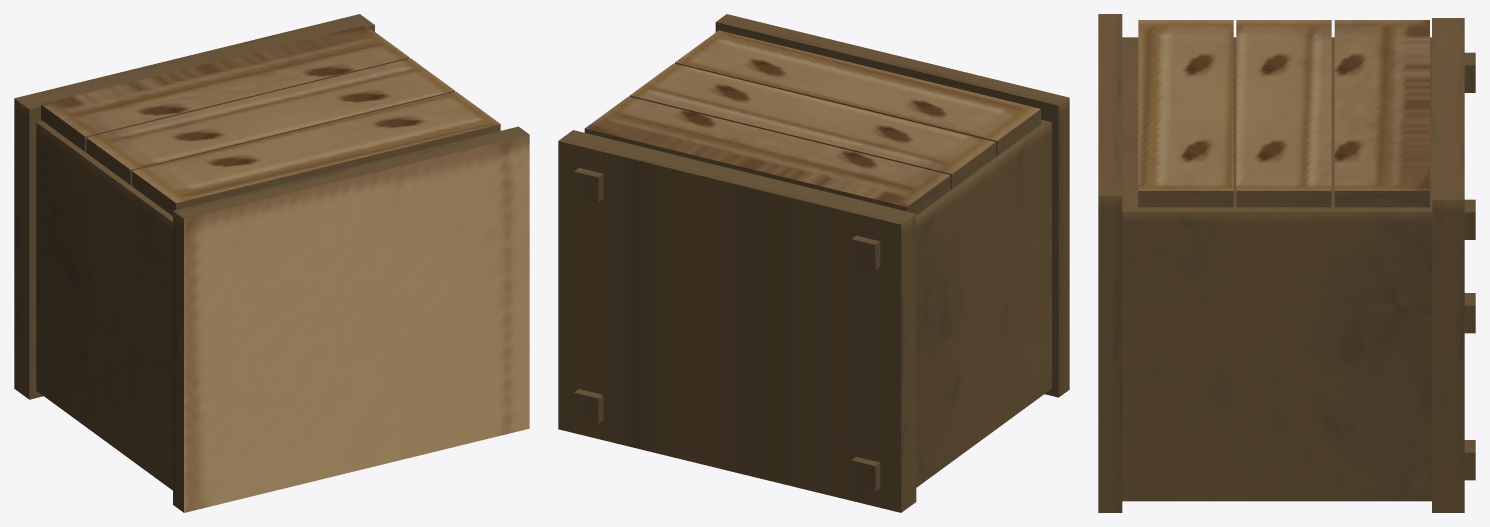
Rendered from pz_drawer_storage_01_light_wood.obj.
The picture shows the model from 3 angles, left to right: view 1: azimuth 30°, elevation 25°; view 2: azimuth 150°, elevation 25°; view 3: azimuth 270°, elevation 25°; orthographic projection. The views are drawn at different scales.
Parts seen in each view (by area): view 1: root; view 2: root; view 3: root.
Part boxes in pixels (<box>): root: <box>14,14,529,512</box>; root: <box>558,14,1069,512</box>; root: <box>1098,14,1475,512</box>.
Size of the model in its own units: 0.99 by 0.805 by 0.8675.
Materials: 1 (1 with a texture image).
